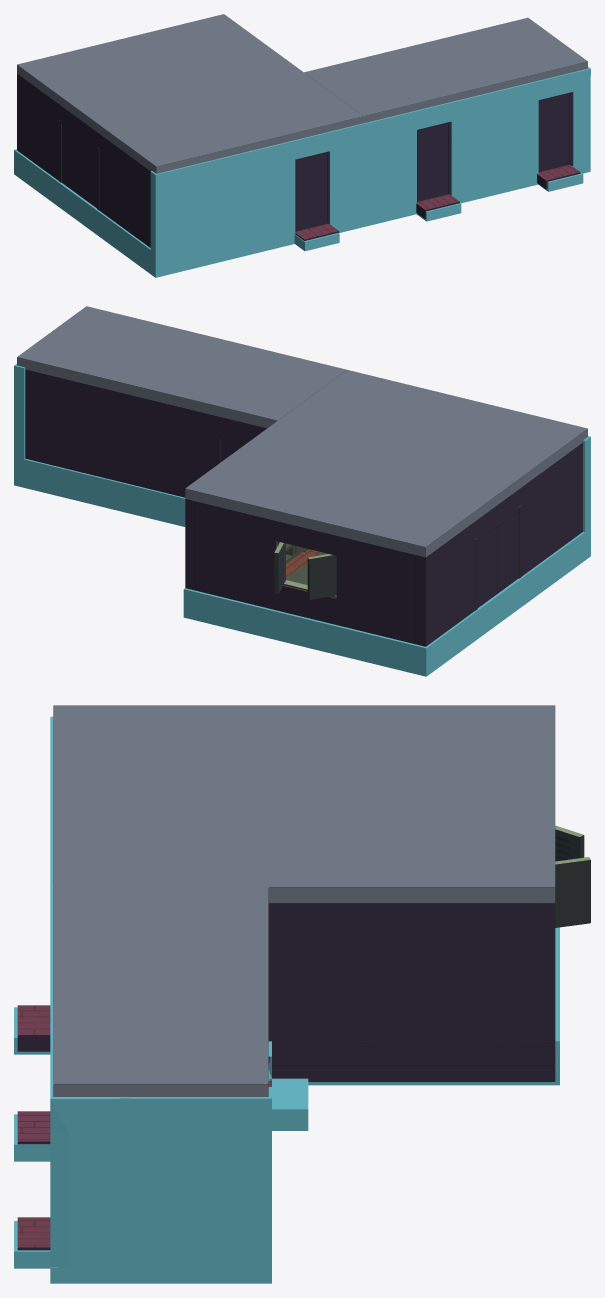
The model's file is mockup_model (1).fbx.
The picture shows the model from 3 angles, top to bottom: view 1: azimuth 30°, elevation 25°; view 2: azimuth 150°, elevation 25°; view 3: azimuth 270°, elevation 25°; orthographic projection. The views are drawn at different scales.
Parts seen in each view (by area): view 1: ceiling, map border, pov_wall front full, door, door_1, door_2, floor, door_3, door_4, frames, wall behind, pov frames; view 2: ceiling, pov_wall front full, map border, door_4, door_3, cuboid_48, pov frames, cuboid_49; view 3: ceiling, map border, pov_wall front full, floor, iso_wall front open, cuboid_49, cuboid_48.
Part boxes in pixels (x1,y1,x2,y2): ceiling: [17, 14, 587, 173]; map border: [14, 67, 590, 277]; pov_wall front full: [17, 74, 150, 247]; door: [296, 153, 327, 230]; door_1: [417, 123, 447, 201]; door_2: [538, 94, 568, 171]; floor: [295, 164, 580, 240]; door_3: [61, 125, 79, 195]; door_4: [79, 138, 96, 207]; frames: [295, 92, 570, 231]; wall behind: [296, 92, 573, 222]; pov frames: [59, 120, 99, 210]; ceiling: [17, 306, 587, 557]; pov_wall front full: [25, 369, 582, 646]; map border: [14, 364, 590, 676]; door_4: [497, 512, 518, 593]; door_3: [477, 527, 497, 607]; cuboid_48: [307, 554, 336, 599]; pov frames: [217, 434, 521, 610]; cuboid_49: [274, 542, 285, 593]; ceiling: [53, 705, 555, 1098]; map border: [14, 716, 559, 1283]; pov_wall front full: [268, 903, 555, 1084]; floor: [17, 1005, 555, 1250]; iso_wall front open: [268, 1046, 555, 1065]; cuboid_49: [555, 857, 590, 927]; cuboid_48: [555, 825, 584, 861].
Size of the model in its own units: 3153 by 762 by 2011.
26 materials, 26 textured.
